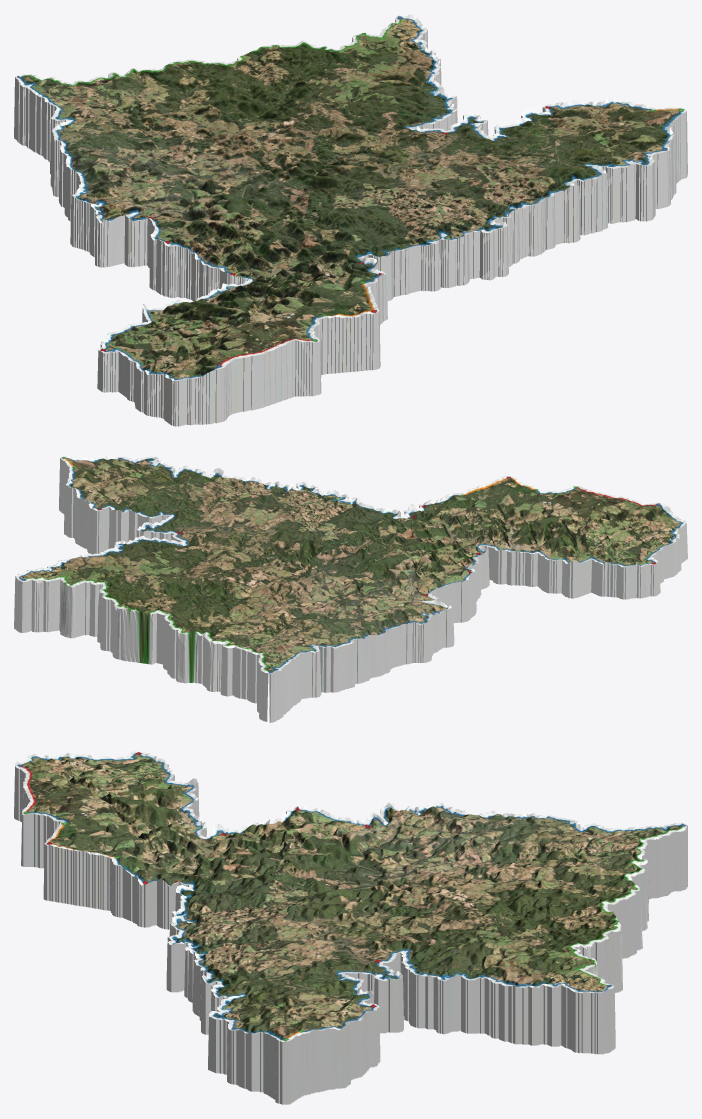
3 renders of one model, top to bottom at view 1: azimuth 30°, elevation 25°; view 2: azimuth 150°, elevation 25°; view 3: azimuth 270°, elevation 25°, orthographic. The views are drawn at different scales.
Bounding box in the file's own units: 0.9999 × 0.0943 × 0.9016.
1 material, 1 textured.
